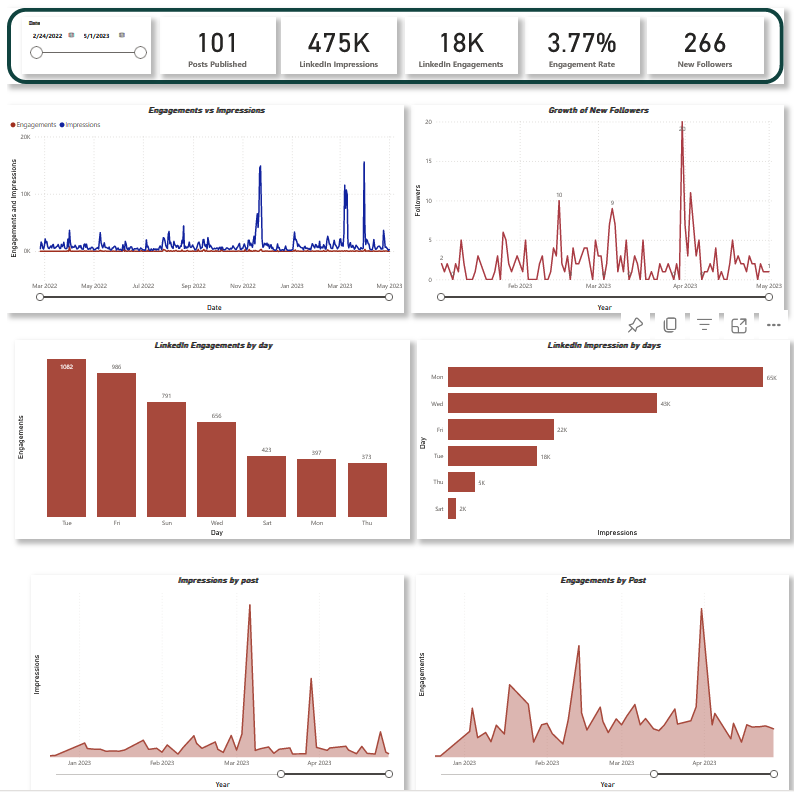

The dashboard page shown, as its layout file describes it:
{"tool":"powerbi","page":{"name":"Page 1","canvas":[1597,1600],"ordinal":0},"visuals":[{"type":"shape","box":[0,26.5,1561,153.3],"z":0},{"type":"card","fields":{"Values":["Sum(Linkedin.Post Published)"]},"box":[306.5,45.4,234.6,115.4],"z":1000},{"type":"card","fields":{"Values":["Sum(Linkedin.Impressions)"]},"box":[550.6,45.4,234.6,115.4],"z":2000},{"type":"card","fields":{"Values":["Linkedin.Engagement Rate"]},"box":[1040.7,45.4,232.7,115.4],"z":3000},{"type":"card","fields":{"Values":["Sum(Linkedin.Engagements)"]},"box":[798.5,45.4,229,115.4],"z":4000},{"type":"card","fields":{"Values":["Sum(Followers.New followers)"]},"box":[1286.7,45.4,234.6,115.4],"z":5000},{"type":"lineChart","title":"Growth of New Followers","fields":{"Y":["Sum(Followers.New followers)"],"Category":["Followers.Date.Variation.Date Hierarchy.Year","Followers.Date.Variation.Date Hierarchy.Month","Followers.Date.Variation.Date Hierarchy.Day"]},"box":[810.4,223.5,749.9,417.3],"z":6000},{"type":"slicer","fields":{"Values":["Linkedin.Date"]},"box":[30.3,45.4,259.2,115.4],"z":7000},{"type":"columnChart","title":"LinkedIn Engagements by day","fields":{"Category":["Top Posts by Engagements.Day"],"Y":["Sum(Top Posts by Engagements.Engagements)"]},"box":[15.7,696.3,795.2,399.1],"z":8000},{"type":"barChart","title":"LinkedIn Impression by days","fields":{"Category":["Top Posts by Impressions.Day"],"Y":["Sum(Top Posts by Impressions.Impressions)"]},"box":[823,696.3,749.9,399.1],"z":9000},{"type":"lineChart","title":"Engagements vs Impressions","fields":{"Category":["Linkedin.Date"],"Y":["Sum(Linkedin.Engagements)","Sum(Linkedin.Impressions)"]},"box":[0,223.5,798.3,417.3],"z":10000}]}

Visuals, with their boxes in screenshot pixels (x1, y1, x2, y2), scaled from the page's 1597x1600 canvas onto the 794x792 screenshot:
shape: l=0, t=13, r=776, b=89
card - Sum(Linkedin.Post Published): l=152, t=22, r=269, b=80
card - Sum(Linkedin.Impressions): l=274, t=22, r=390, b=80
card - Linkedin.Engagement Rate: l=517, t=22, r=633, b=80
card - Sum(Linkedin.Engagements): l=397, t=22, r=511, b=80
card - Sum(Followers.New followers): l=640, t=22, r=756, b=80
"Growth of New Followers" lineChart: l=403, t=111, r=776, b=317
slicer - Linkedin.Date: l=15, t=22, r=144, b=80
"LinkedIn Engagements by day" columnChart: l=8, t=345, r=403, b=542
"LinkedIn Impression by days" barChart: l=409, t=345, r=782, b=542
"Engagements vs Impressions" lineChart: l=0, t=111, r=397, b=317
